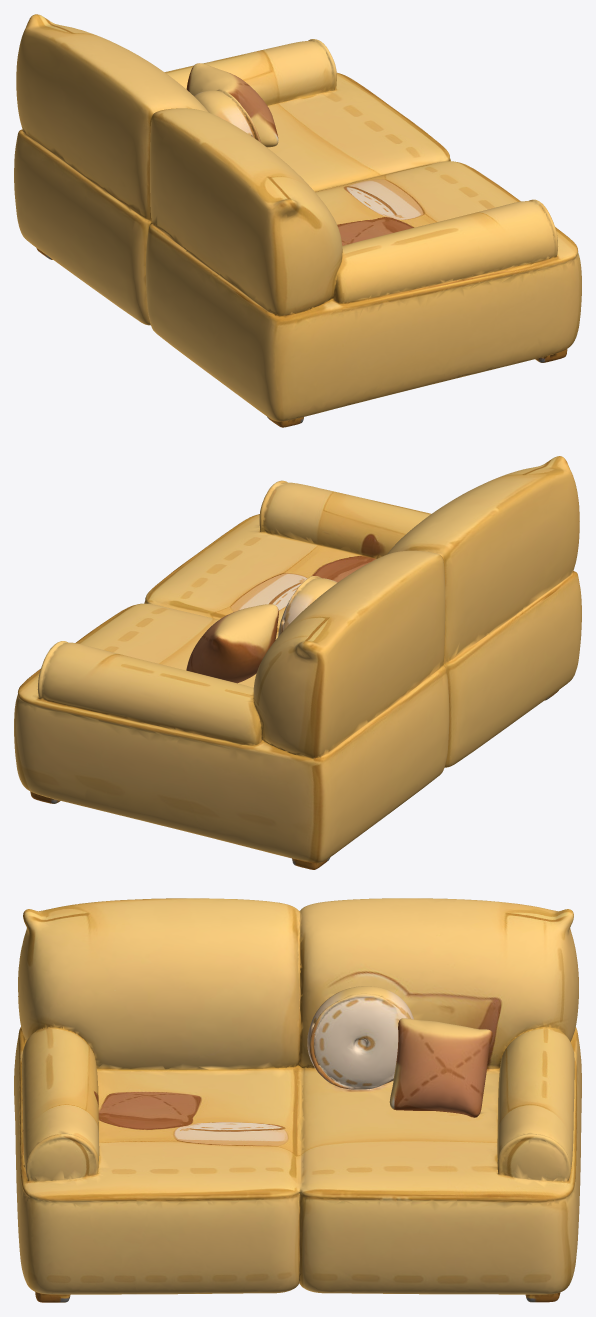
Rendered from sofa.glb.
The picture shows the model from 3 angles, top to bottom: view 1: azimuth 30°, elevation 25°; view 2: azimuth 150°, elevation 25°; view 3: azimuth 270°, elevation 25°; orthographic projection. The views are drawn at different scales.
Parts seen in each view (by area): view 1: tripo_node_74e37878-e796-4a14-8a58-204931954e95; view 2: tripo_node_74e37878-e796-4a14-8a58-204931954e95; view 3: tripo_node_74e37878-e796-4a14-8a58-204931954e95.
Part boxes in pixels (x1,y1,x2,y2): tripo_node_74e37878-e796-4a14-8a58-204931954e95: (14, 14, 581, 427); tripo_node_74e37878-e796-4a14-8a58-204931954e95: (14, 456, 581, 869); tripo_node_74e37878-e796-4a14-8a58-204931954e95: (14, 898, 581, 1302).
Size of the model in its own units: 0.7107 by 0.4939 by 0.9999.
1 material, 1 textured.
